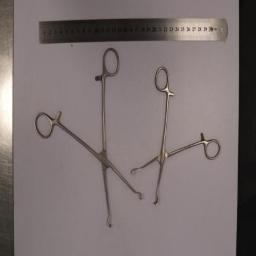Babcock Tissue Forceps: (132, 66, 220, 206)
